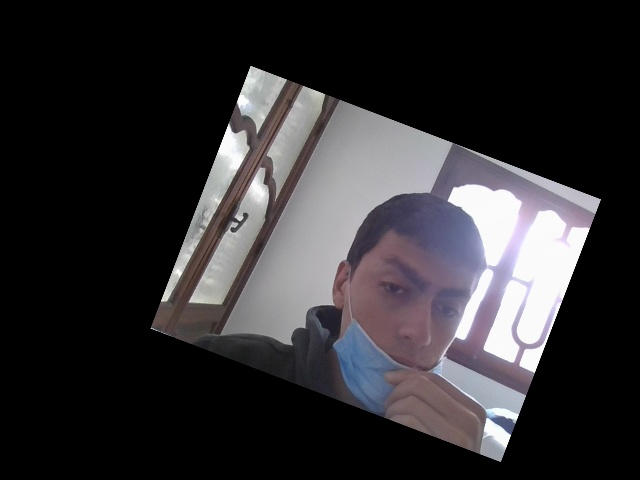mask_weared_incorrect: (342, 207, 478, 430)
